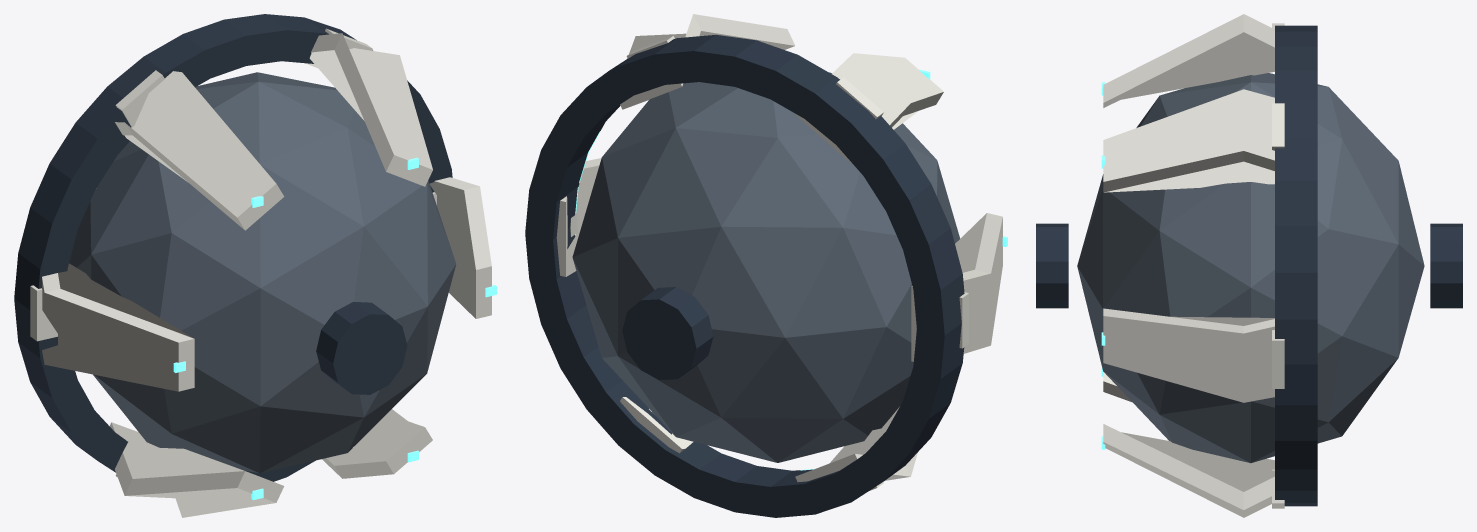
The model's file is llm_core.glb.
The picture shows the model from 3 angles, left to right: view 1: azimuth 30°, elevation 25°; view 2: azimuth 150°, elevation 25°; view 3: azimuth 270°, elevation 25°; orthographic projection. The views are drawn at different scales.
Parts seen in each view (by area): view 1: llm_core__core, llm_core__outer_ring, llm_core__shield_04, llm_core__shield_03, llm_core__shield_02, llm_core__shield_05, llm_core__output, llm_core__shield_01, llm_core__shield_06; view 2: llm_core__core, llm_core__outer_ring, llm_core__input, llm_core__shield_04, llm_core__shield_03, llm_core__shield_02, llm_core__shield_01, llm_core__shield_05, llm_core__shield_06; view 3: llm_core__core, llm_core__outer_ring, llm_core__shield_02, llm_core__shield_01, llm_core__shield_03, llm_core__shield_06, llm_core__input, llm_core__output, llm_core__outer_ring_armor.
Boxes of the visible parts, bbox=[...] form: llm_core__core: bbox=[69, 72, 456, 473]; llm_core__outer_ring: bbox=[14, 14, 452, 481]; llm_core__shield_04: bbox=[42, 263, 194, 391]; llm_core__shield_03: bbox=[115, 71, 284, 230]; llm_core__shield_02: bbox=[305, 33, 432, 186]; llm_core__shield_05: bbox=[109, 422, 284, 517]; llm_core__output: bbox=[316, 302, 407, 394]; llm_core__shield_01: bbox=[429, 177, 491, 318]; llm_core__shield_06: bbox=[322, 409, 432, 478]; llm_core__core: bbox=[572, 72, 960, 462]; llm_core__outer_ring: bbox=[525, 35, 968, 517]; llm_core__input: bbox=[622, 287, 713, 379]; llm_core__shield_04: bbox=[911, 213, 1002, 361]; llm_core__shield_03: bbox=[795, 53, 943, 166]; llm_core__shield_02: bbox=[620, 14, 795, 109]; llm_core__shield_01: bbox=[556, 158, 601, 276]; llm_core__shield_05: bbox=[795, 407, 917, 482]; llm_core__shield_06: bbox=[620, 397, 693, 453]; llm_core__core: bbox=[1077, 73, 1424, 463]; llm_core__outer_ring: bbox=[1272, 23, 1317, 508]; llm_core__shield_02: bbox=[1103, 89, 1274, 192]; llm_core__shield_01: bbox=[1103, 308, 1274, 402]; llm_core__shield_03: bbox=[1103, 14, 1274, 107]; llm_core__shield_06: bbox=[1103, 424, 1274, 517]; llm_core__input: bbox=[1430, 223, 1462, 308]; llm_core__output: bbox=[1036, 223, 1068, 308]; llm_core__outer_ring_armor: bbox=[1272, 330, 1284, 388].
Bounding box in the file's own units: 3.4 × 3.4 × 3.
